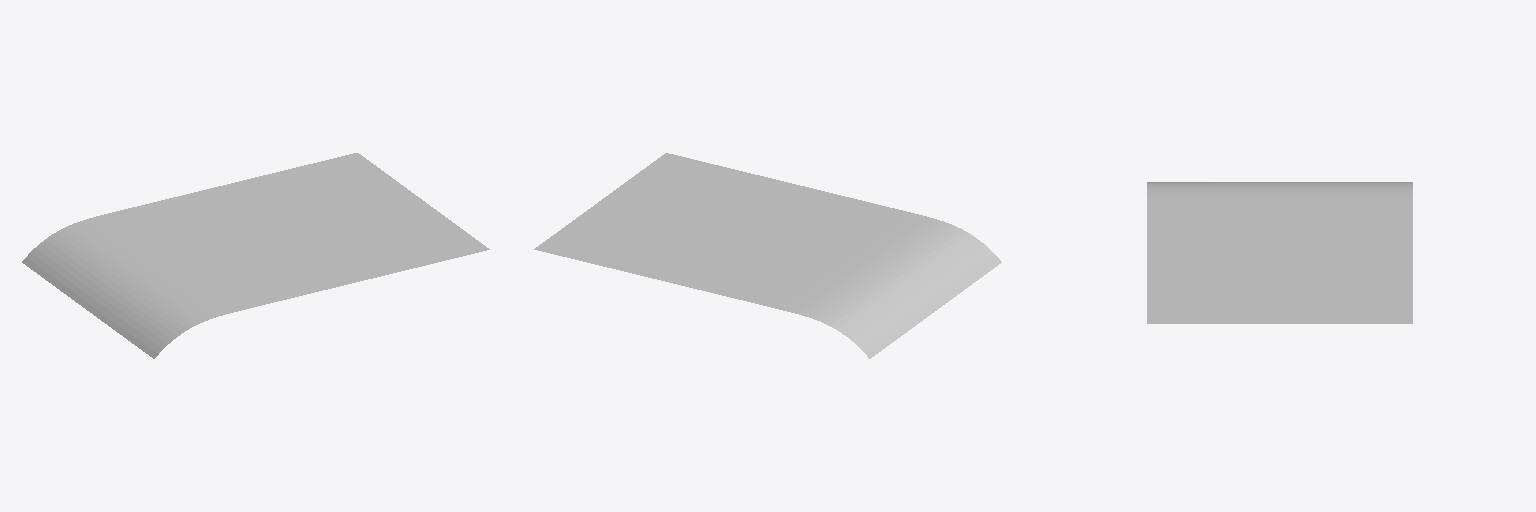
Rendered from CurvePaper_000065.obj.
The picture shows the model from 3 angles: view 1: azimuth 30°, elevation 25°; view 2: azimuth 150°, elevation 25°; view 3: azimuth 270°, elevation 25°; orthographic projection.
Parts seen in each view (by area): view 1: Plane; view 2: Plane; view 3: Plane.
Part boxes in pixels (x1,y1,x2,y2): Plane: (22,153,489,358); Plane: (534,153,1001,358); Plane: (1147,182,1412,323).
Bounding box in the file's own units: 3.31 × 0.2643 × 2.26.